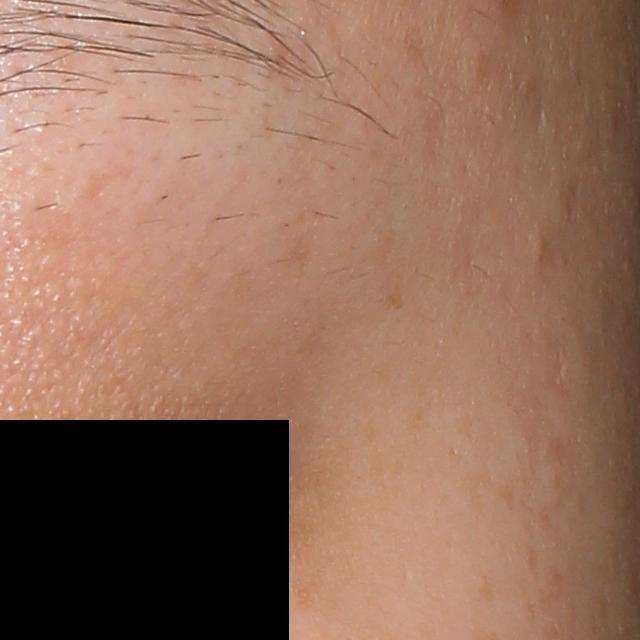comedo: (529, 231, 550, 269)
melasma: (471, 565, 501, 606), (491, 476, 520, 518)
